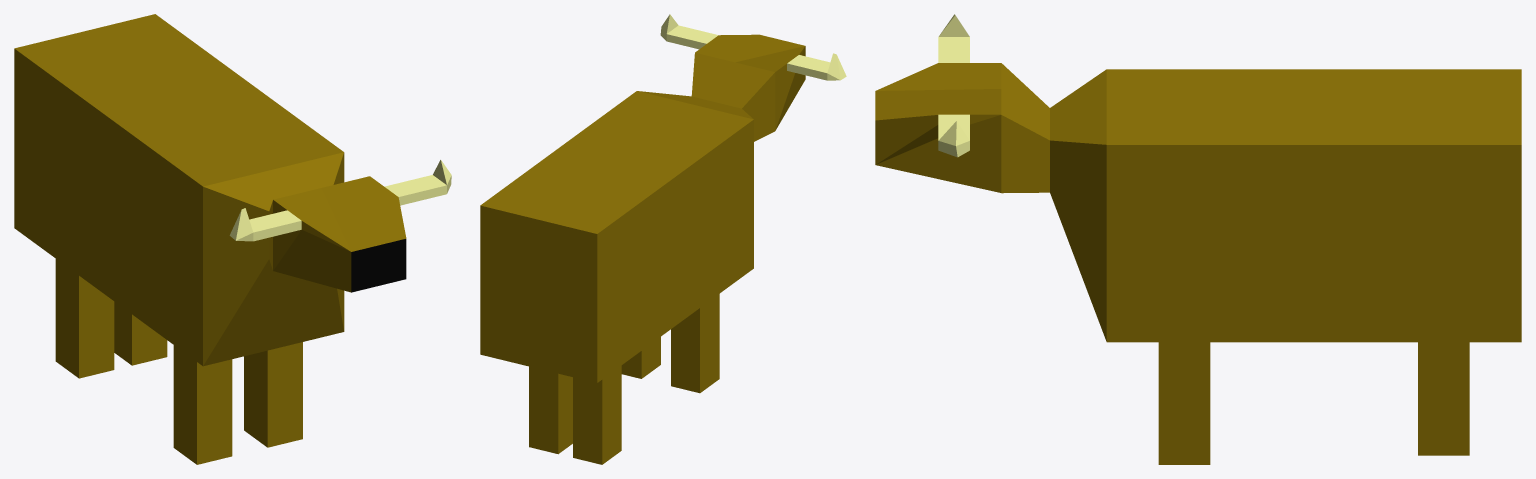
Rendered from Vaca.fbx.
The picture shows the model from 3 angles, left to right: view 1: azimuth 30°, elevation 25°; view 2: azimuth 150°, elevation 25°; view 3: azimuth 270°, elevation 25°; orthographic projection. The views are drawn at different scales.
Visible parts, largest first — view 1: Cube; view 2: Cube; view 3: Cube.
Boxes of the visible parts, x1,y1,x2,y2 form: Cube: (14,14,451,464); Cube: (480,14,846,464); Cube: (875,14,1521,464).
Bounding box in the file's own units: 47.86 × 69.84 × 111.
